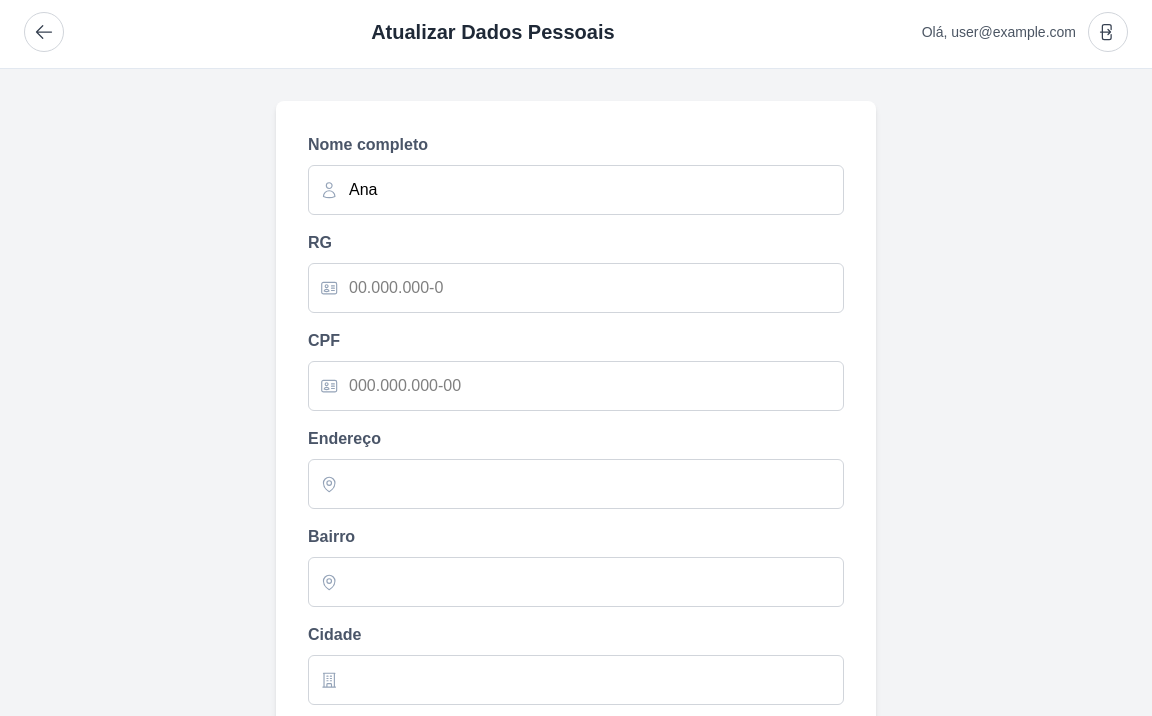
UpdatePage › blocks submission and shows a field error when the CPF is invalid
Type "123" into the field labelled "CPF".
click(576, 386); type("123")  # box top-left (308, 361), bottom-right (844, 411)
(page scrolled)
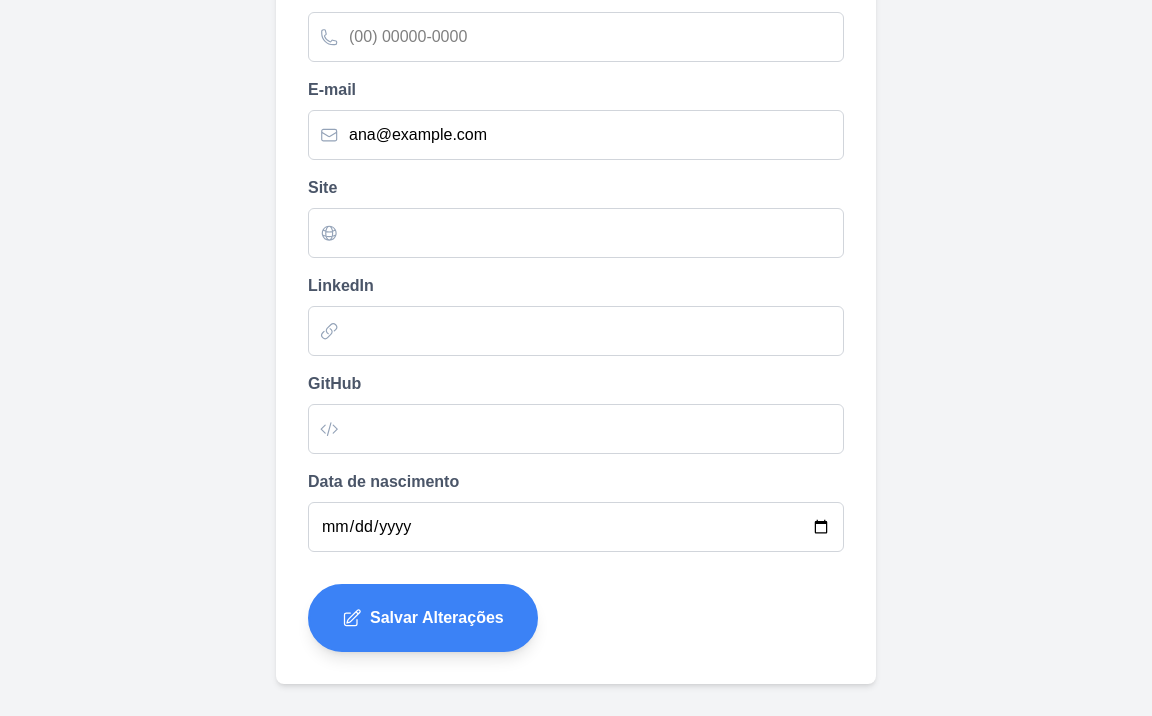
Click the button "Salvar Alterações".
click(423, 618)  # box top-left (308, 584), bottom-right (538, 652)
(page scrolled)
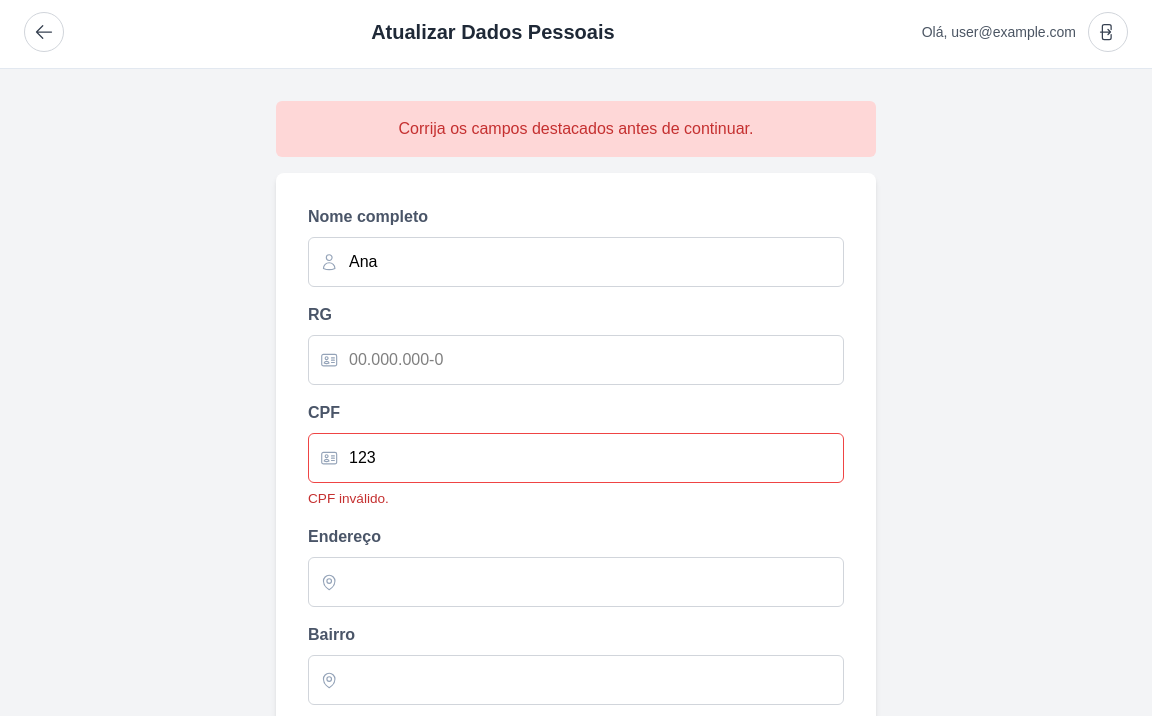
Result: the text "CPF inválido." is shown at top-left (308, 491), bottom-right (389, 506)
Result: the text "Corrija os campos destacados antes de continuar." is shown at top-left (276, 101), bottom-right (876, 157)
